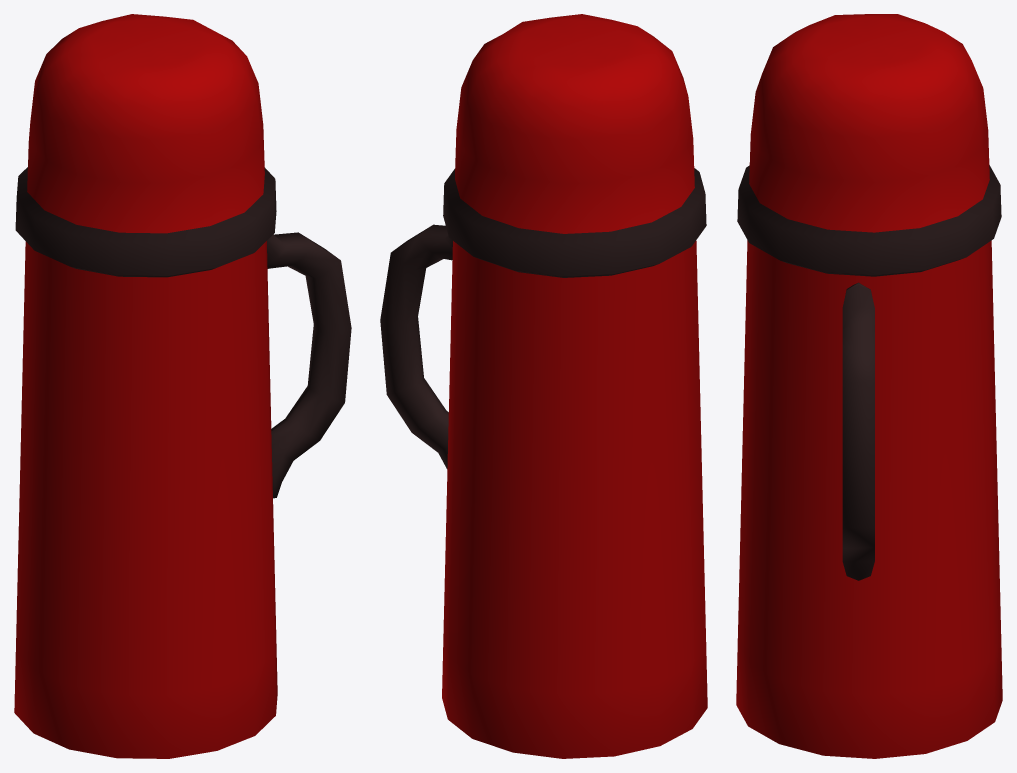
File: thermos.fbx
3 renders of one model, left to right at view 1: azimuth 30°, elevation 25°; view 2: azimuth 150°, elevation 25°; view 3: azimuth 270°, elevation 25°, orthographic.
Parts seen in each view (by area): view 1: thermos; view 2: thermos; view 3: thermos.
Part boxes in pixels (box(x1,y1,x2,y2)): thermos: box(14, 14, 351, 758); thermos: box(380, 14, 707, 758); thermos: box(736, 14, 1002, 758).
Bounding box in the file's own units: 0.2218 × 0.4597 × 0.1664.
